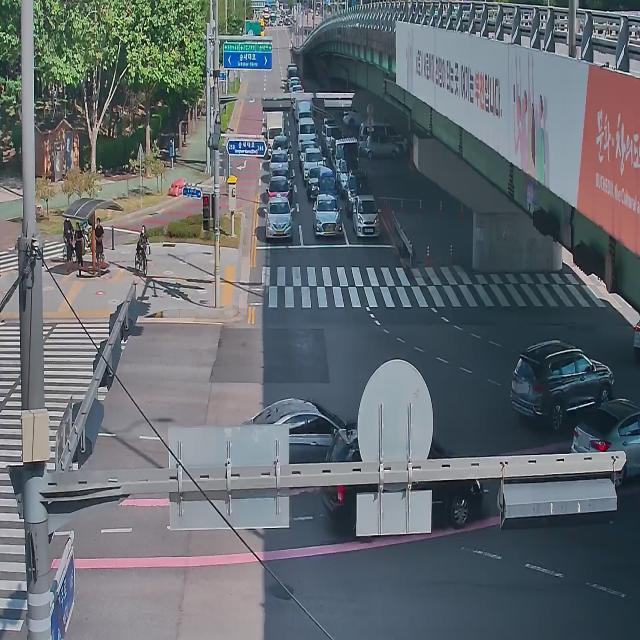Car: (322, 410, 487, 538), (239, 397, 360, 512), (510, 338, 614, 431), (570, 397, 640, 482), (311, 190, 343, 238), (264, 192, 294, 242), (352, 190, 381, 241), (344, 168, 373, 208), (364, 132, 401, 160), (264, 172, 292, 209), (298, 138, 324, 165), (268, 155, 291, 179), (296, 117, 316, 143), (337, 157, 355, 182), (273, 136, 291, 156), (306, 169, 318, 198), (633, 318, 640, 349)
Truck: (330, 130, 360, 170), (264, 105, 288, 147), (319, 157, 338, 200), (292, 98, 314, 119)
